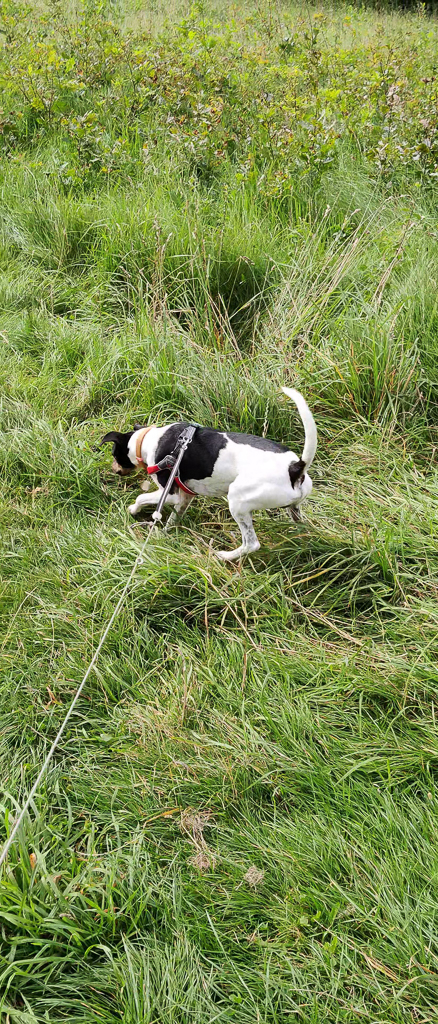Dog: (88, 369, 347, 577)
